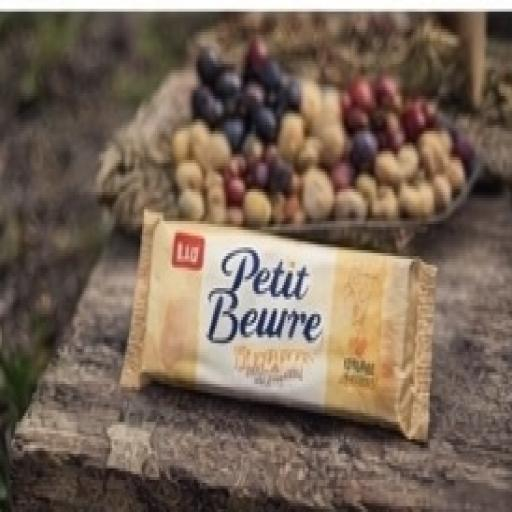petit-beurre: (102, 165, 481, 484)
